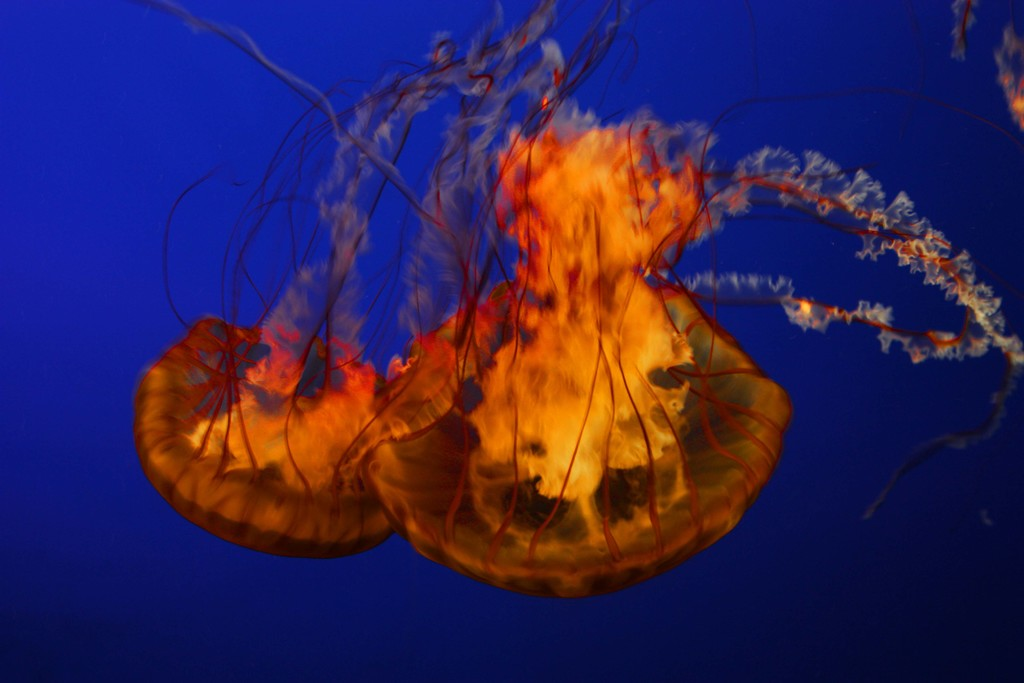Jellyfish: (363, 0, 1023, 597), (117, 0, 653, 563)
